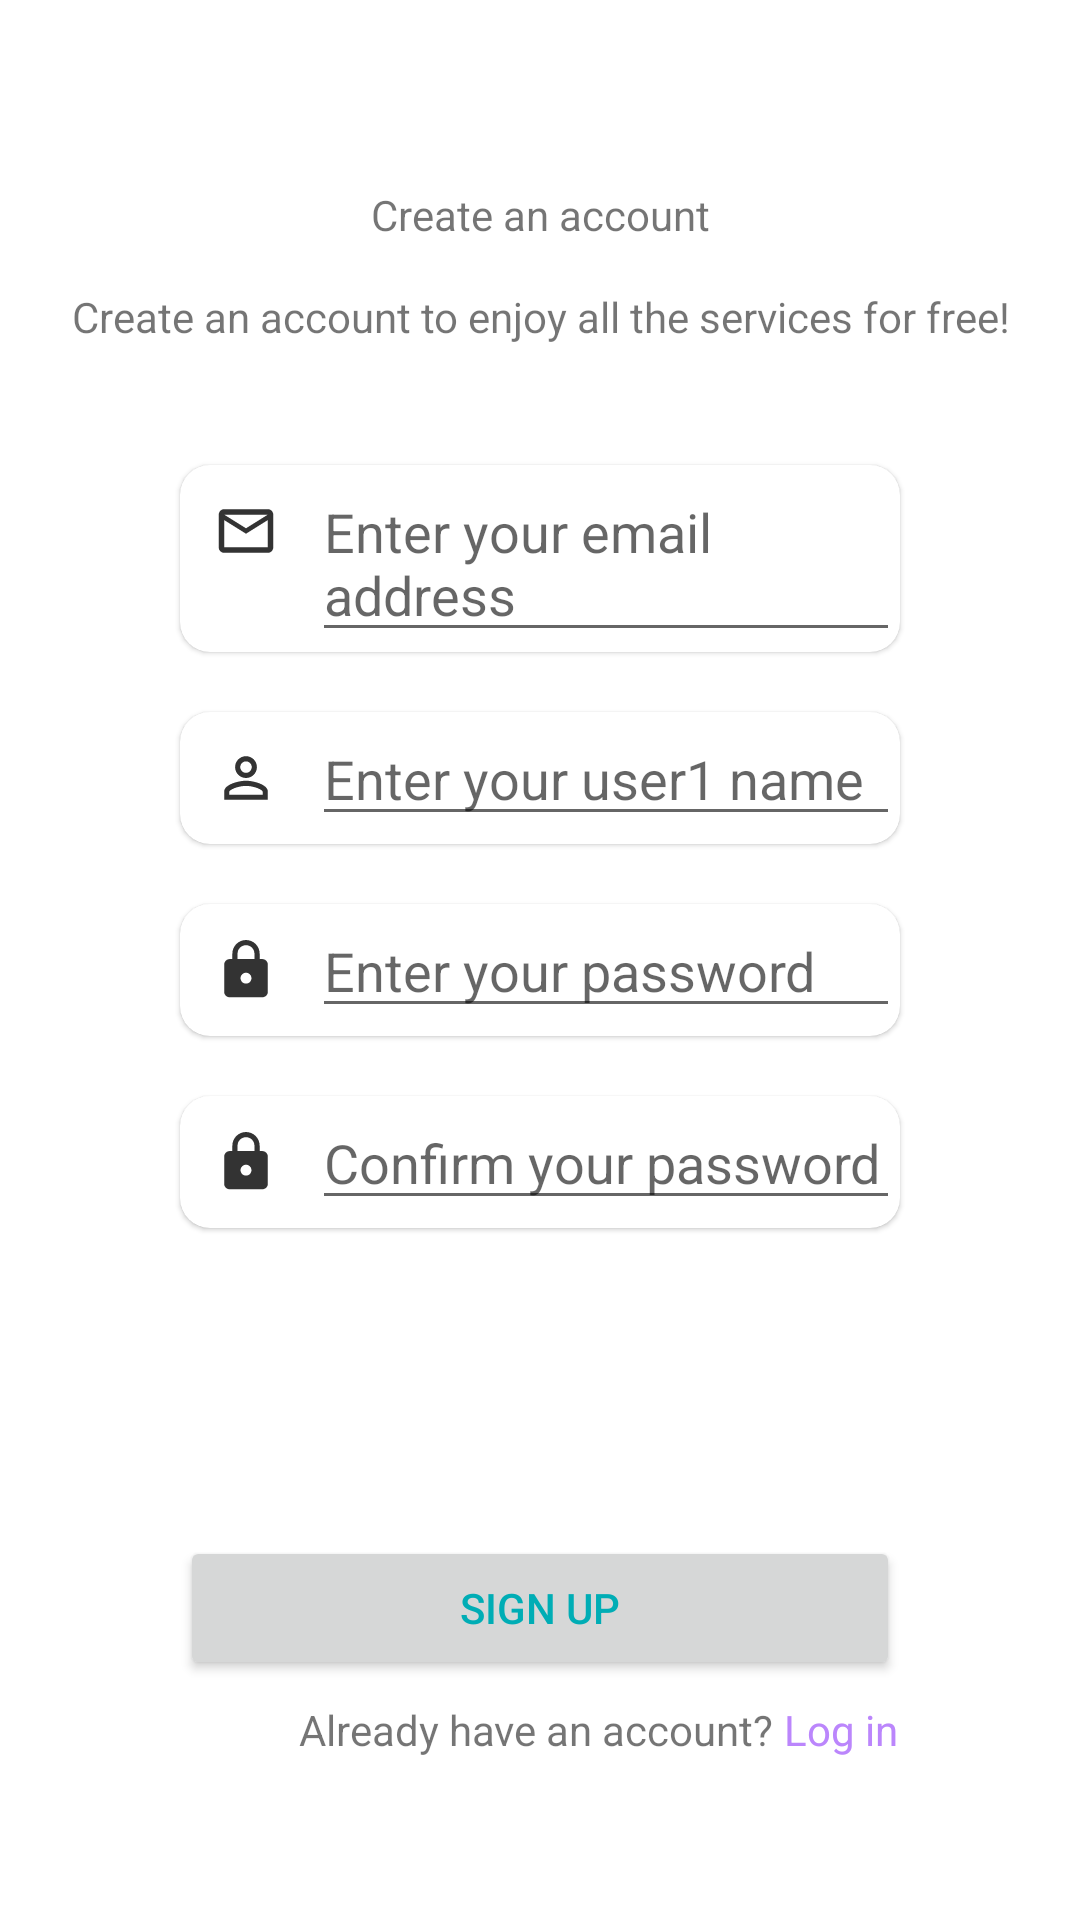

Screen size 1080px×1920px. Icon name, then its box in pixels as (x1, y1, x2, y2):
lock: (224, 940, 268, 998), (224, 1132, 268, 1190)
